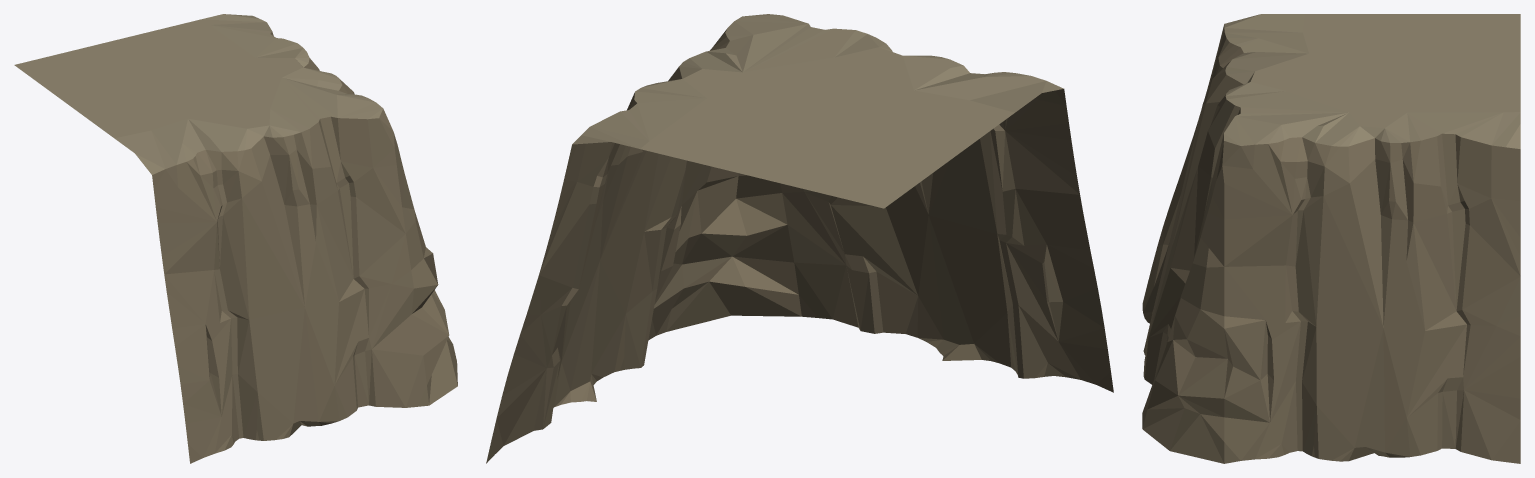
Rendered from BG_rock_BigWall_05_conner.fbx.
3 views of the same model, side by side, from view 1: azimuth 30°, elevation 25°; view 2: azimuth 150°, elevation 25°; view 3: azimuth 270°, elevation 25° (orthographic). The views are drawn at different scales.
Parts seen in each view (by area): view 1: BG_rock_BigWall_05_conner; view 2: BG_rock_BigWall_05_conner; view 3: BG_rock_BigWall_05_conner.
Boxes of the visible parts, x1,y1,x2,y2 form: BG_rock_BigWall_05_conner: [14, 14, 457, 463]; BG_rock_BigWall_05_conner: [486, 14, 1113, 463]; BG_rock_BigWall_05_conner: [1142, 14, 1520, 463].
Bounding box in the file's own units: 102 × 86.36 × 102.
1 material, 1 textured.
